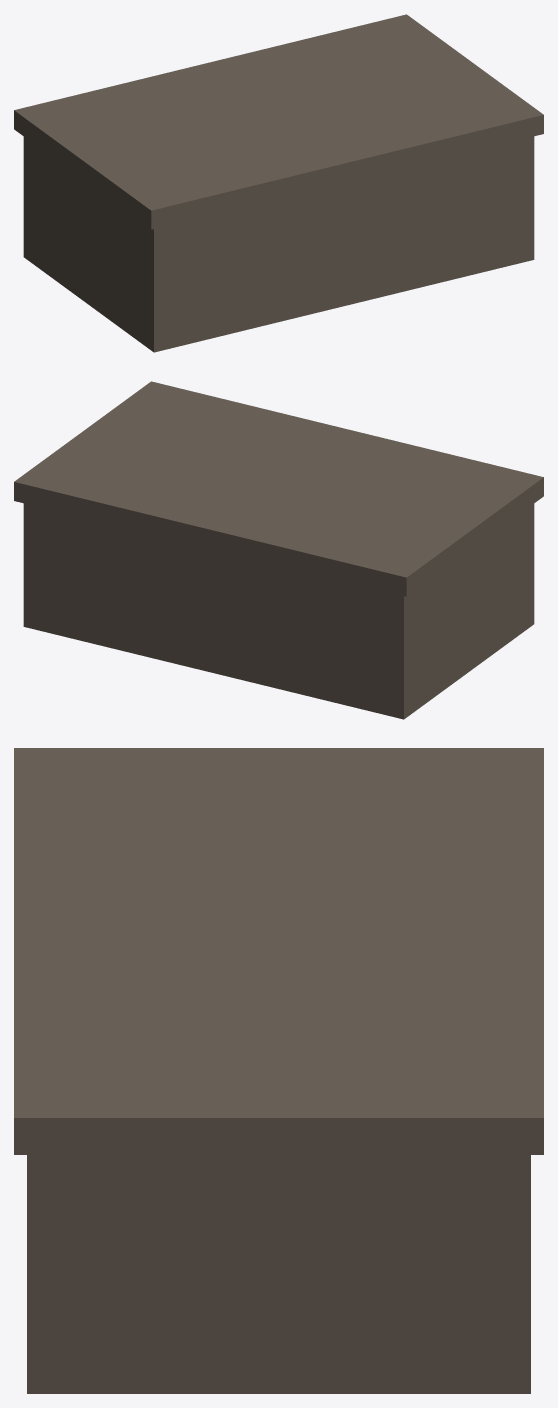
The model's file is Bench.fbx.
3 renders of one model, top to bottom at view 1: azimuth 30°, elevation 25°; view 2: azimuth 150°, elevation 25°; view 3: azimuth 270°, elevation 25°, orthographic. The views are drawn at different scales.
Parts seen in each view (by area): view 1: Bench; view 2: Bench; view 3: Bench.
Boxes of the visible parts, x1,y1,x2,y2 form: Bench: [14, 14, 543, 352]; Bench: [14, 381, 543, 719]; Bench: [14, 748, 543, 1393].
Size of the model in its own units: 209 by 74.17 by 126.
